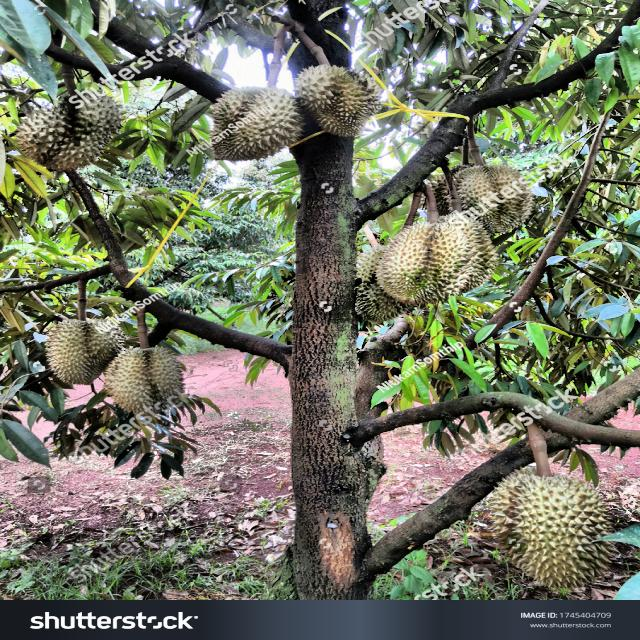arvore: (262, 0, 411, 595)
